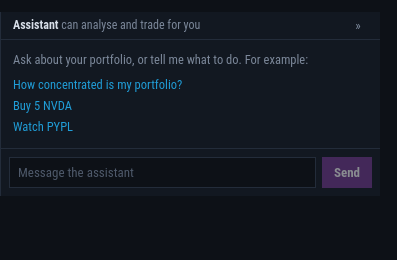
ChatPanel › does not refresh when no action executed, and reports send failures
Type "hi" into the field with test id "chat-input" at (162, 172), box [9,156,316,188]
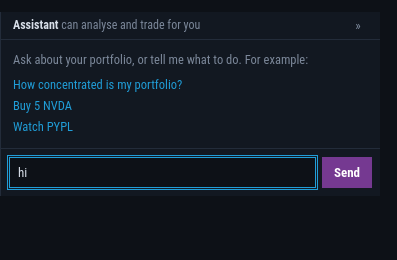
Click the button with test id "chat-send" at (347, 172), box [322,156,372,188]
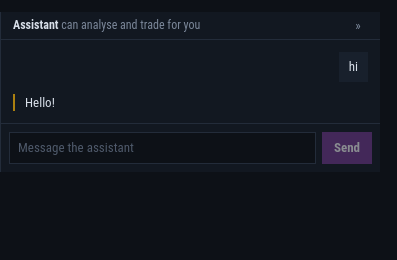
Now the text "Hello!" is shown, box [13,94,352,111]
Type "again" into the field with test id "chat-input" at (162, 148), box [9,132,316,164]
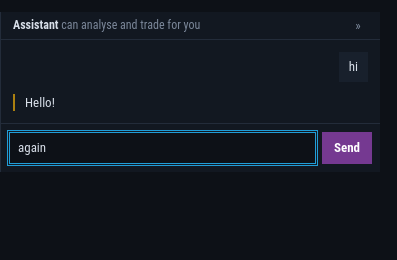
Click the button with test id "chat-send" at (347, 148), box [322,132,372,164]
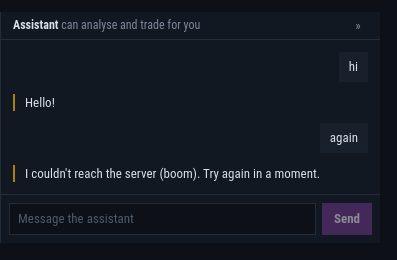
Now the text "I couldn't reach the server (boom). Try again in a moment." is shown, box [13,165,352,182]
